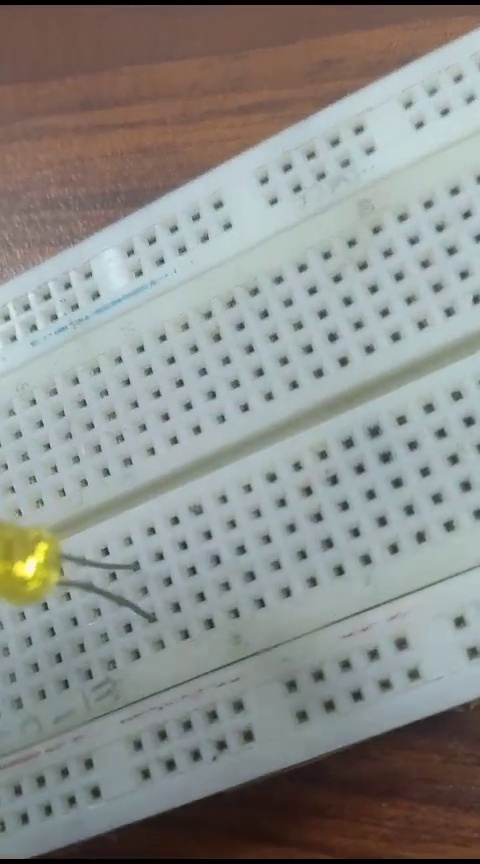LED: (1, 505, 147, 629)
